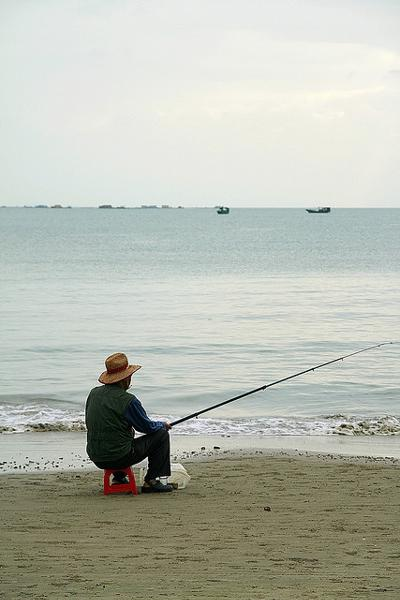person: (86, 352, 172, 496)
